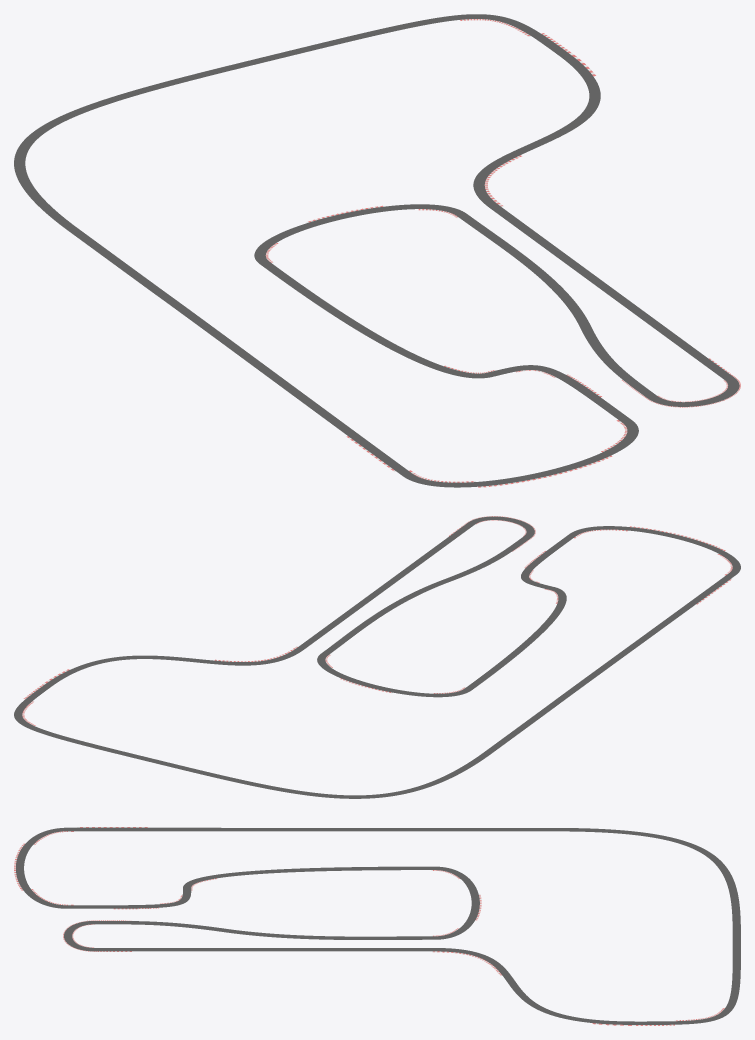
File: track.glb
3 renders of one model, top to bottom at view 1: azimuth 30°, elevation 25°; view 2: azimuth 150°, elevation 25°; view 3: azimuth 270°, elevation 25°, orthographic. The views are drawn at different scales.
Parts seen in each view (by area): view 1: Track; view 2: Track; view 3: Track.
Part boxes in pixels (x1,y1,x2,y2): Track: (14, 14, 740, 487); Track: (14, 516, 740, 798); Track: (14, 827, 740, 1025).
Size of the model in its own units: 514 by 4.77e-07 by 794.
